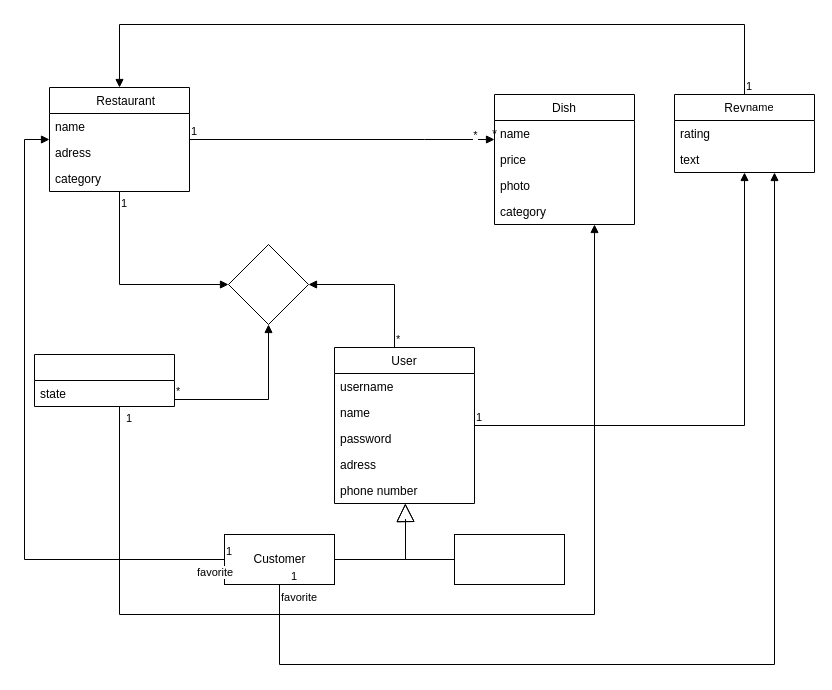
This 832x690 diagram has some shape labels left out. The box of each missing label's shape, as (x1, y1, x2, y2) in pixels:
order: (34, 354, 174, 406)
Owner: (454, 534, 564, 584)
